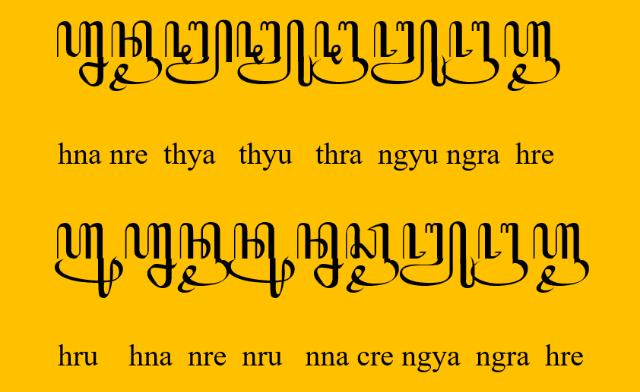cre: (346, 224, 400, 294)
hn: (56, 21, 110, 87), (126, 222, 176, 290)
hre: (504, 20, 562, 92), (532, 222, 590, 294)
hru: (54, 223, 124, 299)
ngra: (442, 20, 500, 84), (470, 222, 528, 286)
ngyu: (398, 221, 476, 289), (372, 19, 446, 87)
nn: (296, 221, 344, 289)
nr: (110, 20, 162, 92)
nre: (178, 222, 230, 294)
nru: (228, 222, 294, 298)
thr: (312, 21, 368, 85)
thy: (164, 19, 232, 85)
thyu: (235, 20, 312, 88)
